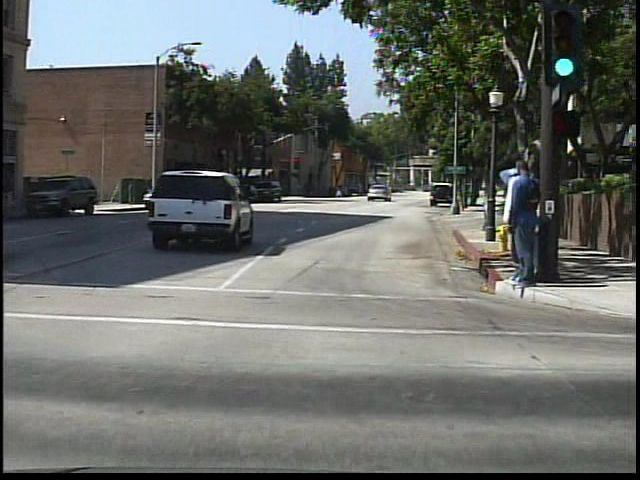person: (491, 162, 528, 291), (506, 155, 539, 292), (334, 182, 345, 199)
